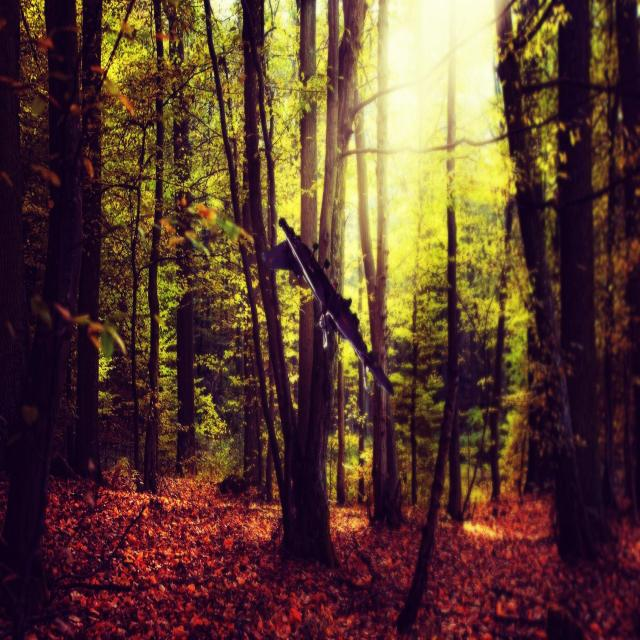airplane: (260, 216, 394, 396)
